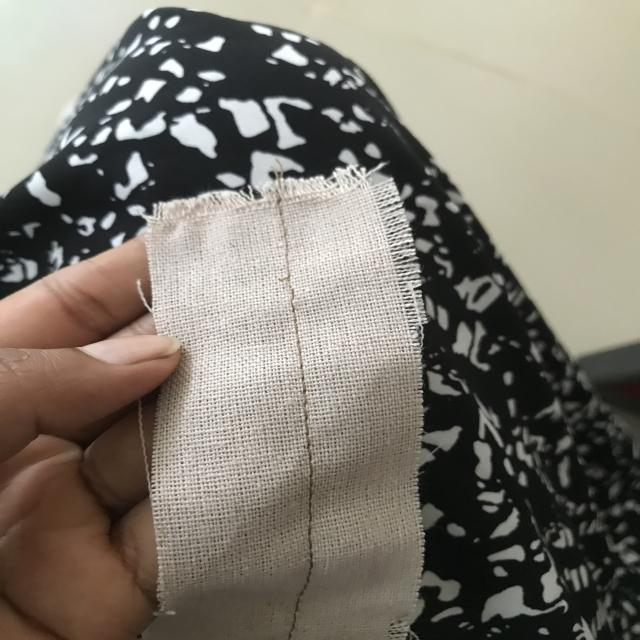broken: (273, 268, 310, 308)
